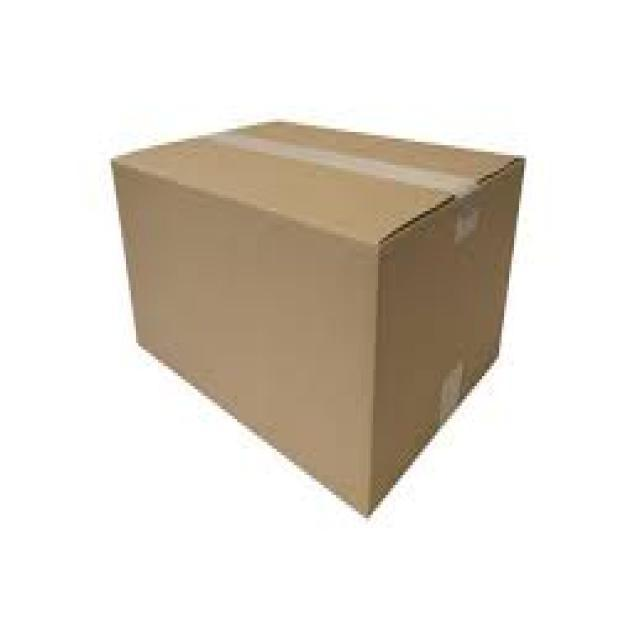Cardboard: (111, 122, 529, 517)
